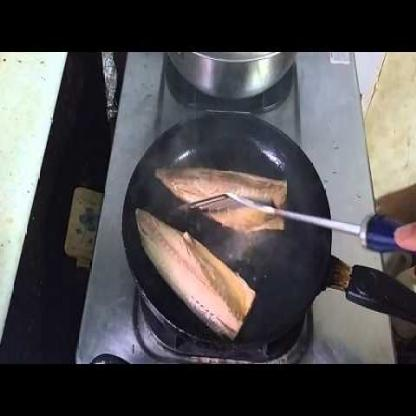Peixe: (115, 208, 269, 336), (152, 142, 298, 235)
